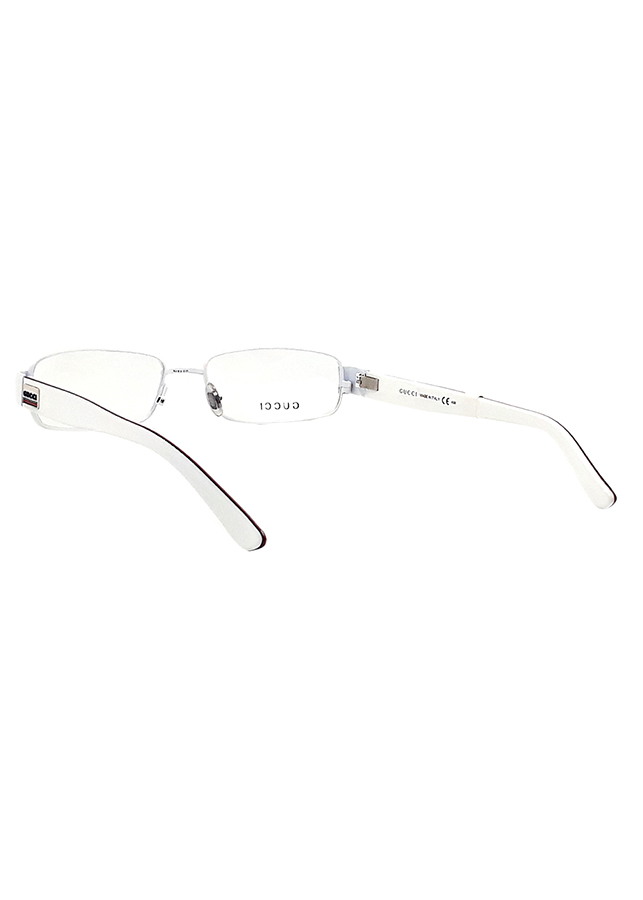Gucci: (250, 394, 307, 419), (391, 381, 425, 403)
